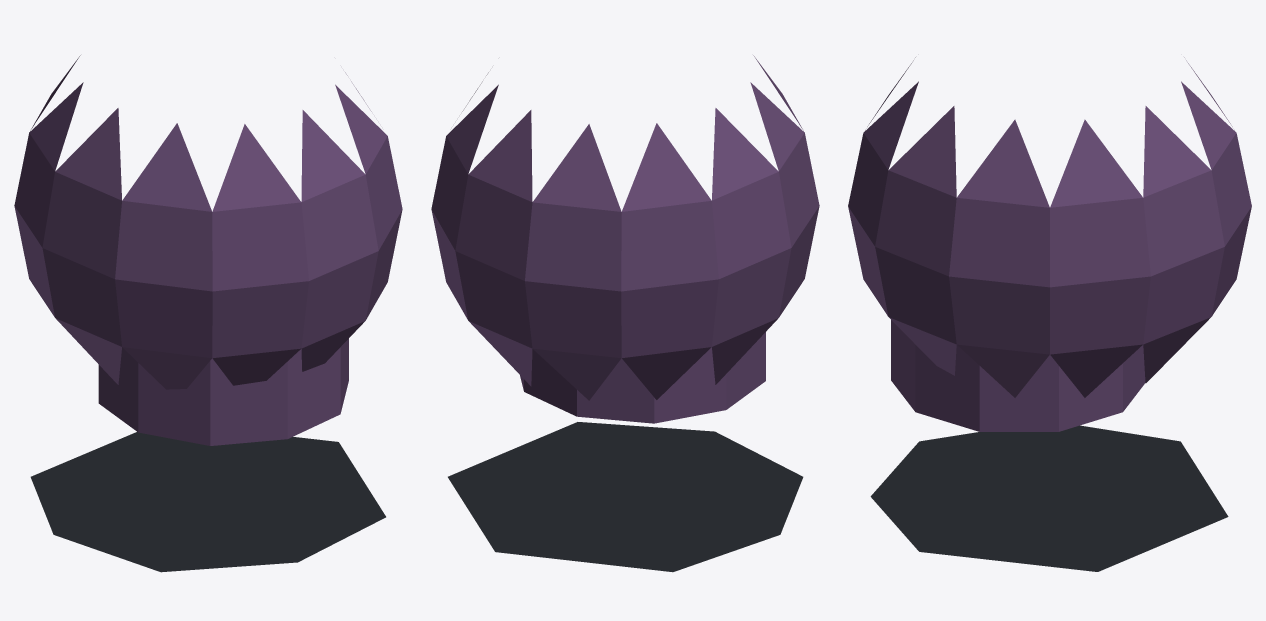
The model's file is jensaarai-headgear.lod.glb.
The picture shows the model from 3 angles, left to right: view 1: azimuth 30°, elevation 25°; view 2: azimuth 150°, elevation 25°; view 3: azimuth 270°, elevation 25°; orthographic projection.
Parts seen in each view (by area): view 1: m; view 2: m; view 3: m.
Part boxes in pixels (bbox=[...]): m: bbox=[14, 55, 402, 572]; m: bbox=[431, 55, 819, 572]; m: bbox=[848, 57, 1251, 571].
Bounding box in the file's own units: 0.1277 × 0.1702 × 0.1341.
